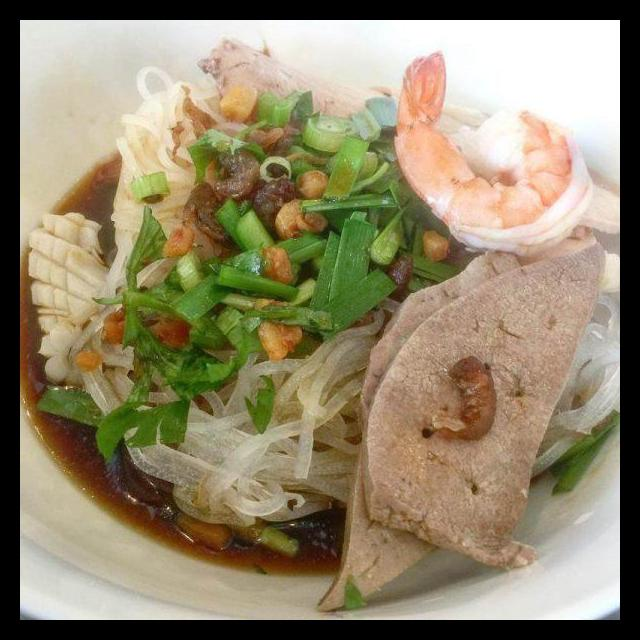banh hu tieu: (75, 288, 409, 532)
gan: (344, 237, 610, 574), (305, 244, 533, 617)
hu tieu: (23, 47, 620, 620), (90, 55, 269, 318)
muc: (23, 208, 131, 394)
thit heo: (192, 36, 406, 152)
tom: (387, 40, 601, 260)
